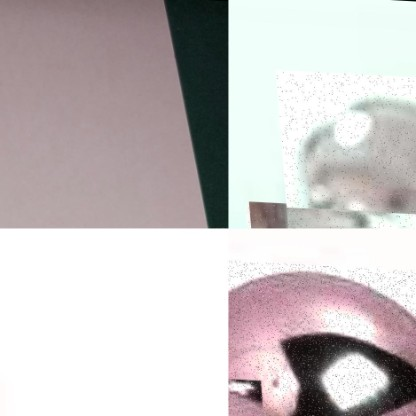ironball: (228, 255, 415, 415), (274, 68, 415, 228)
